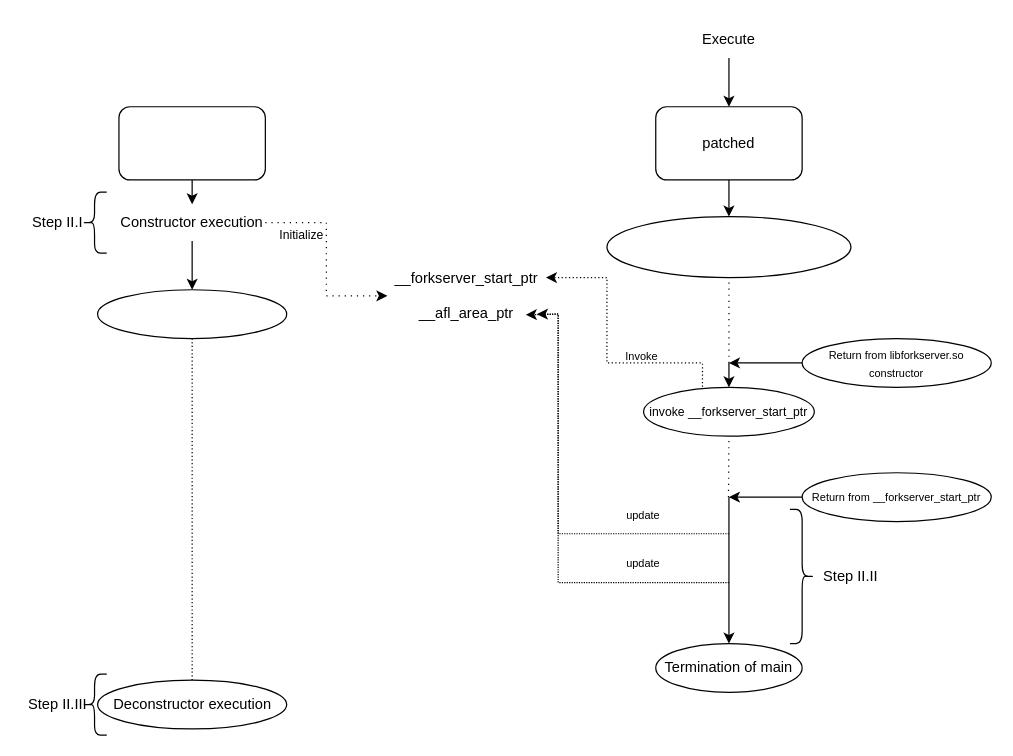
The diagram is 1013 pixels wide and 756 high, and some of its shapes have lost their labels. The centre of each missing label's shape, as x and y in pixels:
"Execute the constructor of libforkserver.so" belongs at point 728,246.
"libforkserver.so" belongs at point 191,143.
"Return to patched execution" belongs at point 191,314.
